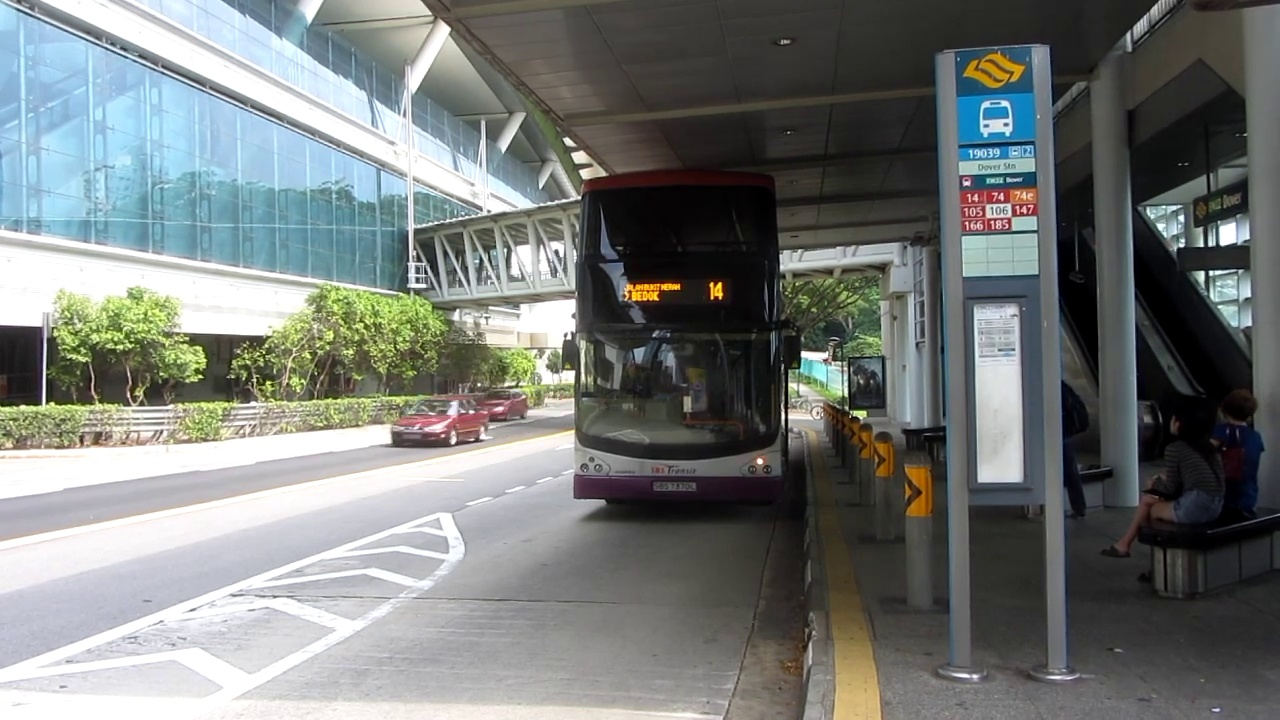bus panel: (617, 278, 730, 306)
